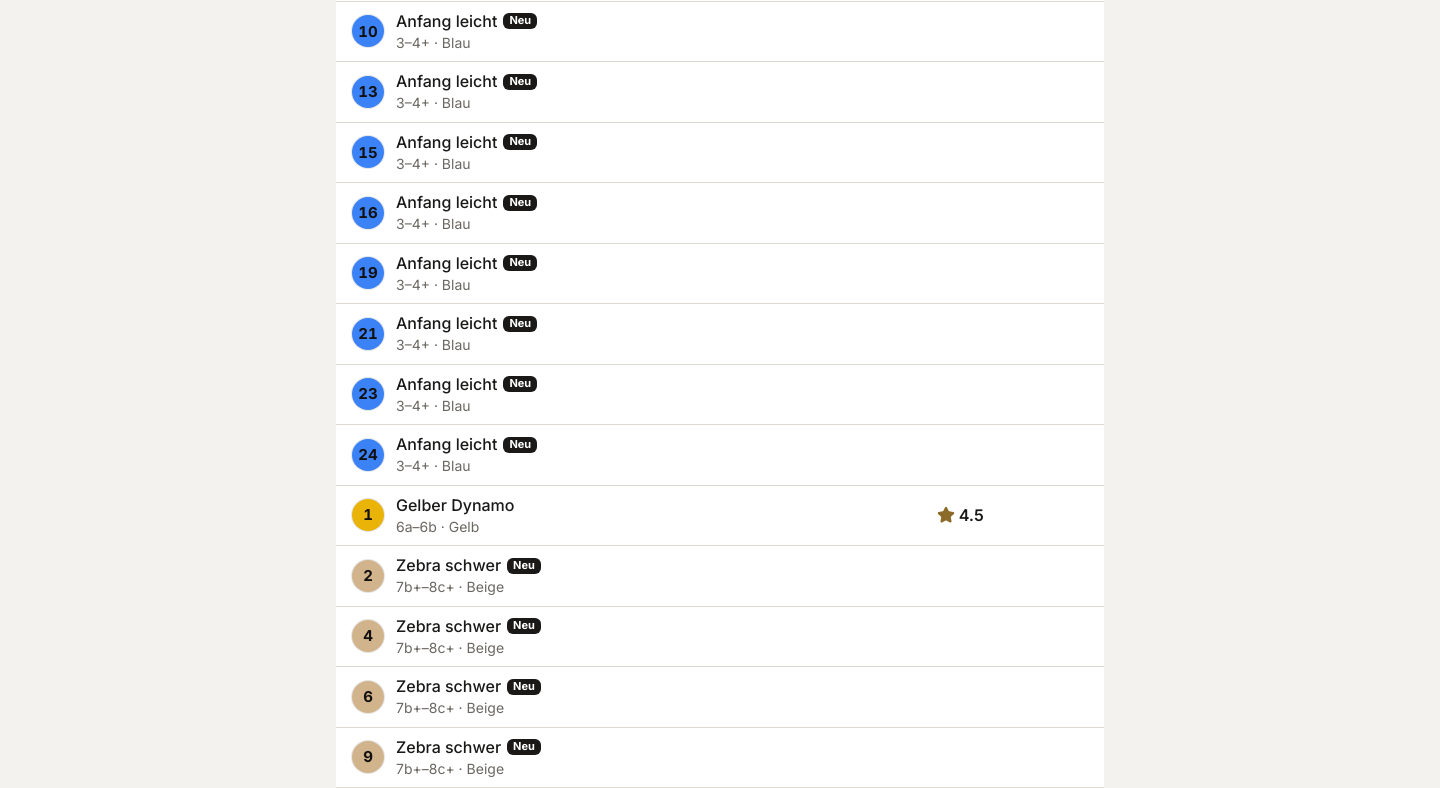
Test case: SPEC-022: Kletterer-UX – Ordnung, Übersicht, wenig Text › Bewerten-Knopf im halben Sheet (F23) › öffnet das Bewertungsfenster mit einem Tap, ohne Details aufzuziehen
(page scrolled)
Click the button "24 Anfang leicht Neu 3–4+ · Blau": (368, 455) top-left (336, 425), bottom-right (1104, 485)
(page scrolled)
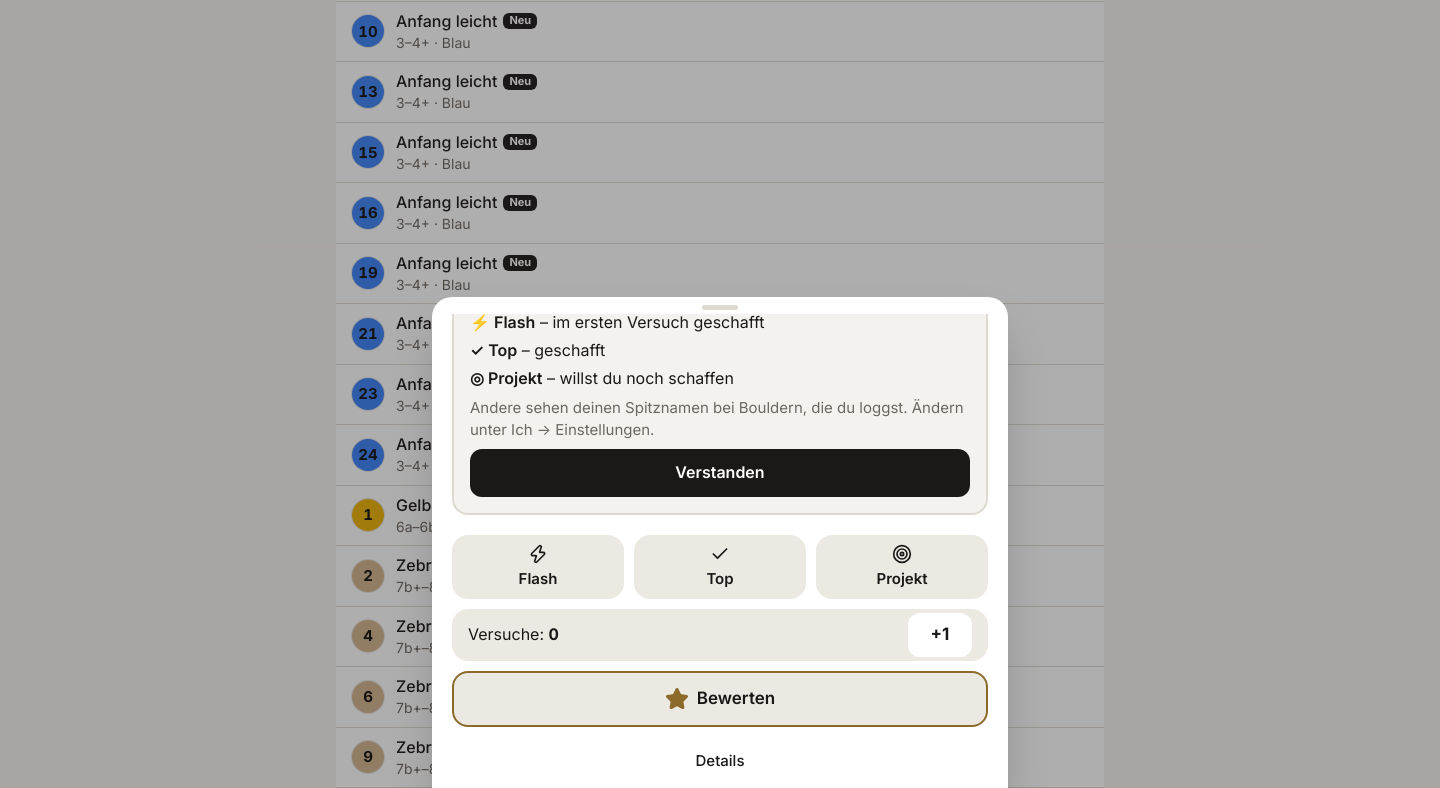
Now the button with test id "quick-rate-btn" reads "Bewerten"
Click the button with test id "quick-rate-btn": (720, 699) top-left (452, 671), bottom-right (988, 727)
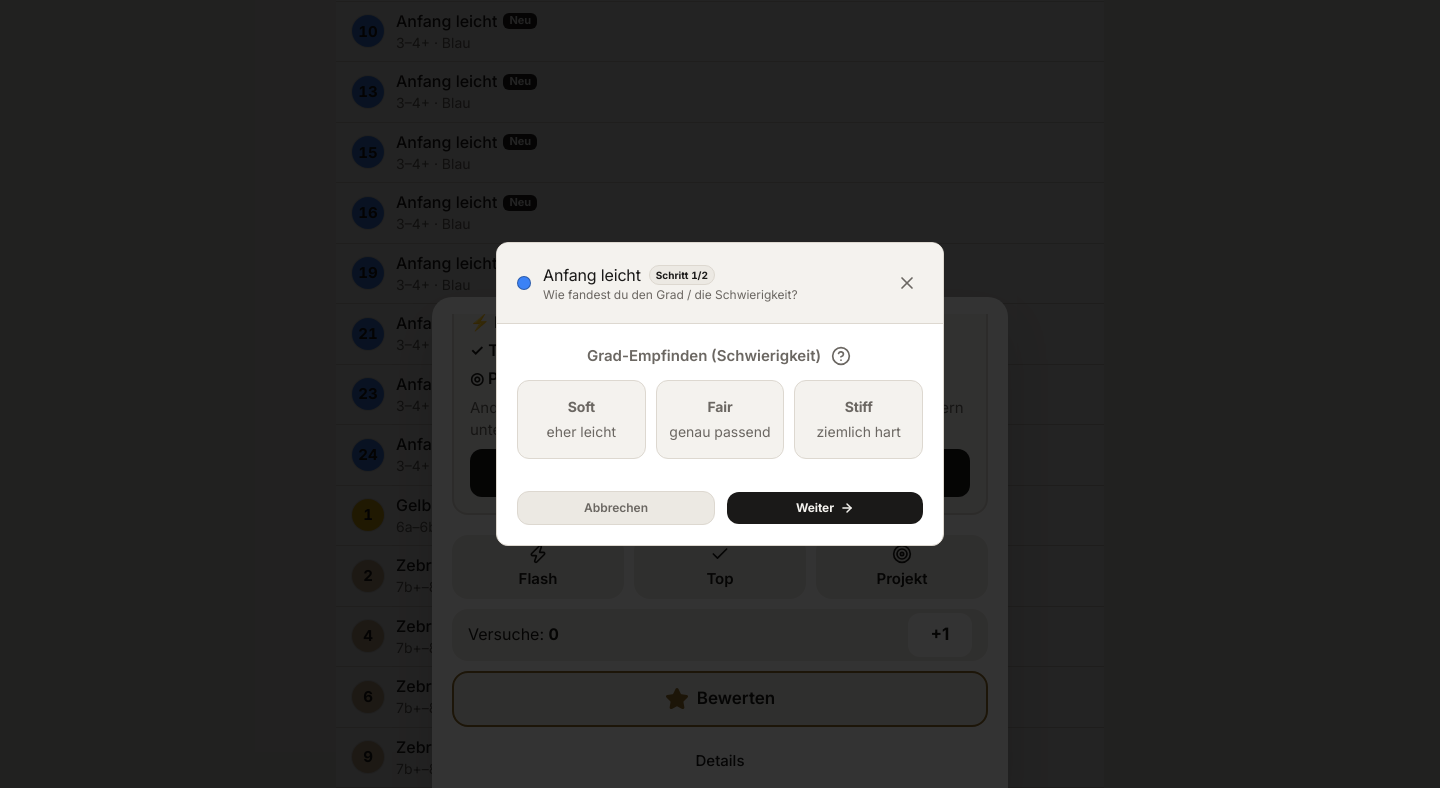
Now the text "Wie fandest du den Grad / die Schwierigkeit?" is shown, box top-left (543, 287), bottom-right (798, 303)
